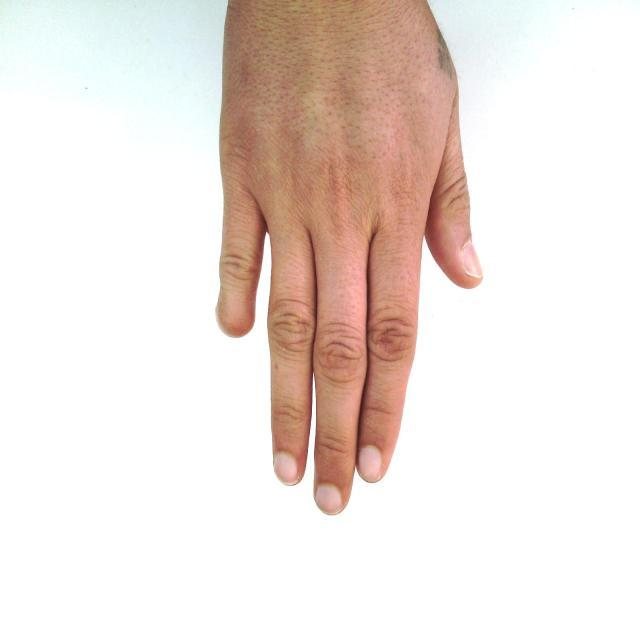Fingernail: (316, 483, 342, 514), (359, 446, 382, 481), (275, 453, 298, 484), (463, 242, 483, 277)
